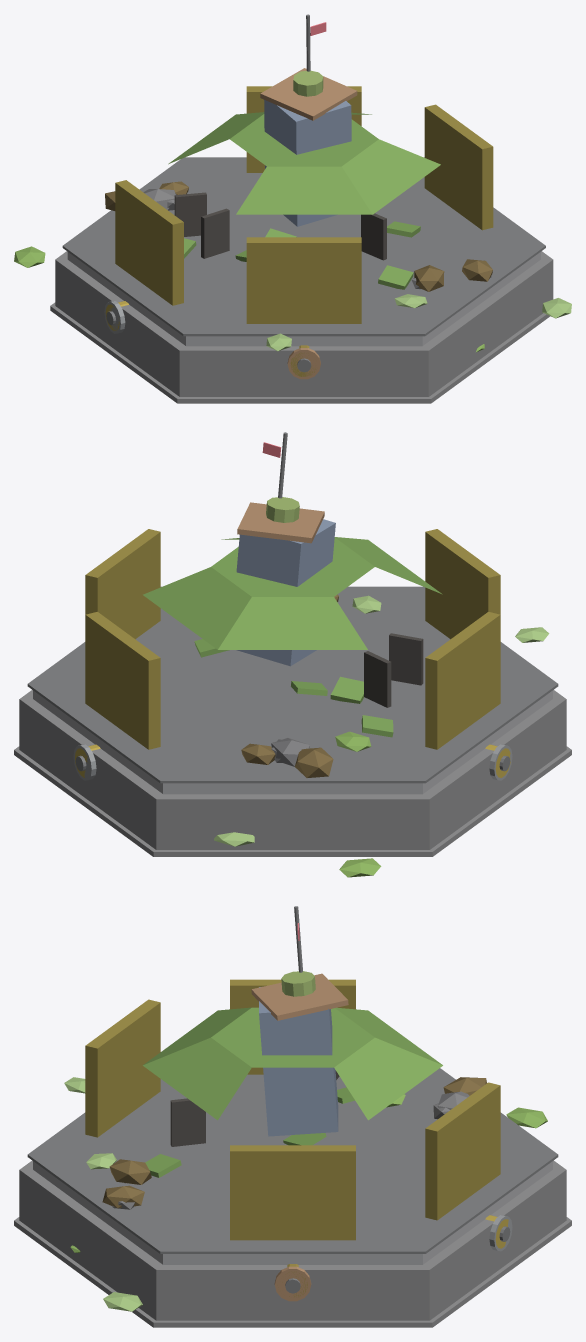
The model's file is main_building_s2_50.glb.
3 views of the same model, one above another, from view 1: azimuth 30°, elevation 25°; view 2: azimuth 150°, elevation 25°; view 3: azimuth 270°, elevation 25° (orthographic). The views are drawn at different scales.
Visible parts, largest first — view 1: MB_BaseCap; view 2: MB_BaseCap; view 3: MB_BaseCap.
Boxes of the visible parts, <box> form: MB_BaseCap: <box>14,14,571,403</box>; MB_BaseCap: <box>14,432,571,877</box>; MB_BaseCap: <box>14,906,571,1327</box>.
Size of the model in its own units: 3.51 by 2.53 by 3.98.
